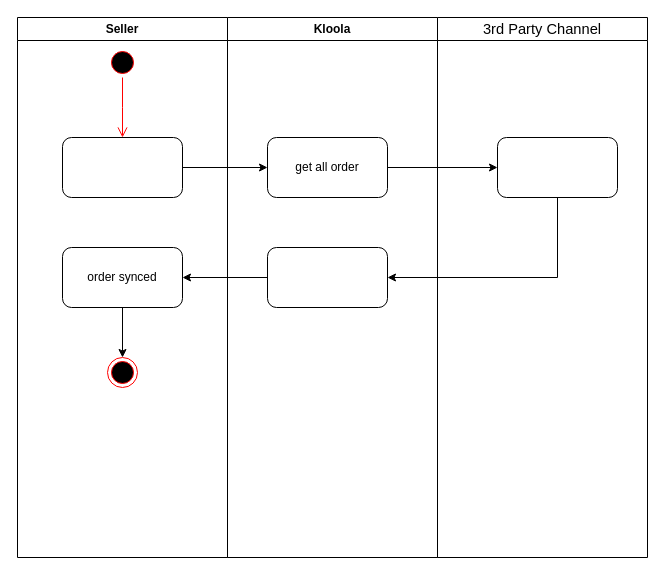
Some shapes in this 665 by 575 pixel diagram are drawn without their labels. Here are the shapes that lost their labels. From the top down, the centre of each, then its label:
At (122,167): "Sync Order".
At (557,167): "retrieve order".
At (327,277): "sync order process".
